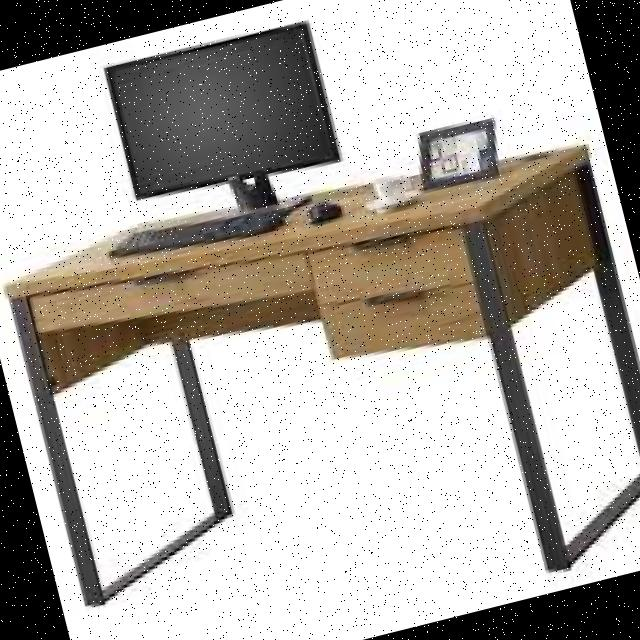Monitor: (93, 7, 354, 220)
Table: (0, 84, 640, 640)
